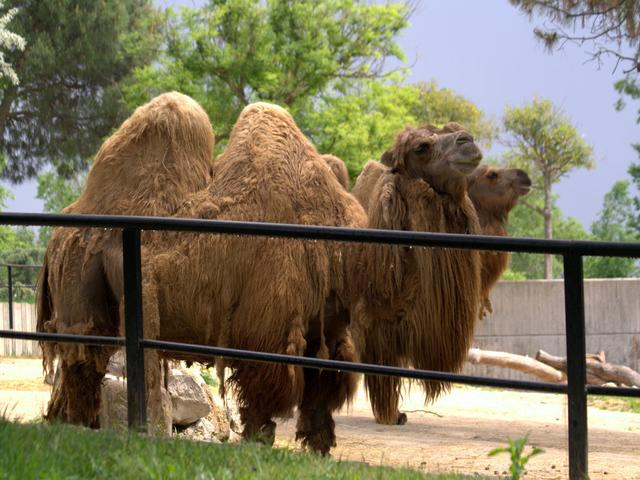camel: (79, 91, 549, 375)
